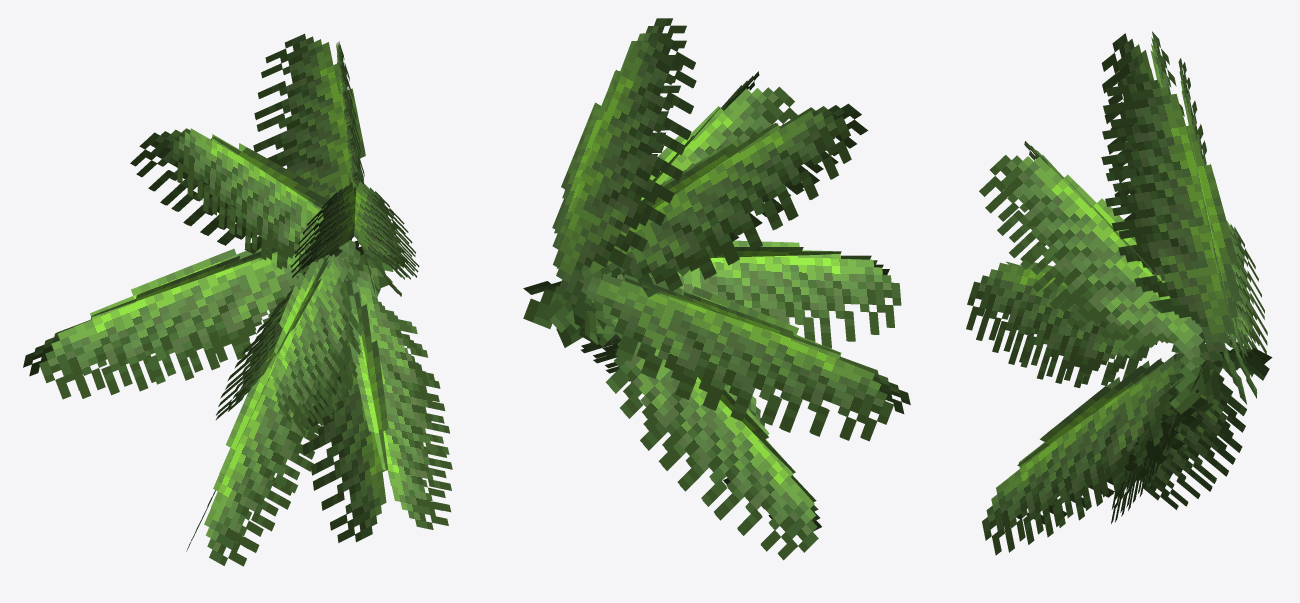
File: palm_leaves_large.obj
The picture shows the model from 3 angles, left to right: view 1: azimuth 30°, elevation 25°; view 2: azimuth 150°, elevation 25°; view 3: azimuth 270°, elevation 25°; orthographic projection. The views are drawn at different scales.
Visible parts, largest first — view 1: Frond.042_Cube.005, Frond.040_Cube.005, Frond.038_Cube.005, Frond.041_Cube.005, Frond.045_Cube.006, Frond.043_Cube.005, Frond.039_Cube.005; view 2: Frond.040_Cube.005, Frond.045_Cube.006, Frond.038_Cube.005, Frond.043_Cube.005, Frond.041_Cube.005, Frond.039_Cube.005, Frond.042_Cube.005; view 3: Frond.045_Cube.006, Frond.039_Cube.005, Frond.042_Cube.005, Frond.041_Cube.005, Frond.043_Cube.005, Frond.038_Cube.005, Frond.040_Cube.005.
Boxes of the visible parts, left/top/right/bottom form: Frond.042_Cube.005: left=302, top=254, right=452, bottom=542; Frond.040_Cube.005: left=23, top=239, right=388, bottom=399; Frond.038_Cube.005: left=130, top=128, right=364, bottom=275; Frond.041_Cube.005: left=216, top=254, right=380, bottom=436; Frond.045_Cube.006: left=253, top=33, right=375, bottom=294; Frond.043_Cube.005: left=186, top=270, right=384, bottom=566; Frond.039_Cube.005: left=290, top=181, right=419, bottom=296; Frond.040_Cube.005: left=523, top=273, right=910, bottom=441; Frond.045_Cube.006: left=552, top=18, right=696, bottom=345; Frond.038_Cube.005: left=556, top=103, right=867, bottom=347; Frond.043_Cube.005: left=543, top=298, right=821, bottom=560; Frond.041_Cube.005: left=586, top=240, right=901, bottom=348; Frond.039_Cube.005: left=580, top=71, right=797, bottom=346; Frond.042_Cube.005: left=523, top=281, right=764, bottom=427; Frond.045_Cube.006: left=1101, top=58, right=1253, bottom=391; Frond.039_Cube.005: left=979, top=141, right=1232, bottom=414; Frond.042_Cube.005: left=982, top=348, right=1272, bottom=555; Frond.041_Cube.005: left=966, top=261, right=1261, bottom=394; Frond.043_Cube.005: left=1111, top=350, right=1269, bottom=523; Frond.038_Cube.005: left=1101, top=31, right=1246, bottom=404; Frond.040_Cube.005: left=1175, top=221, right=1267, bottom=398.
Size of the model in its own units: 4.1 by 5.25 by 2.94.
